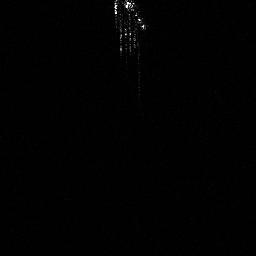ship: (110, 1, 149, 56)
